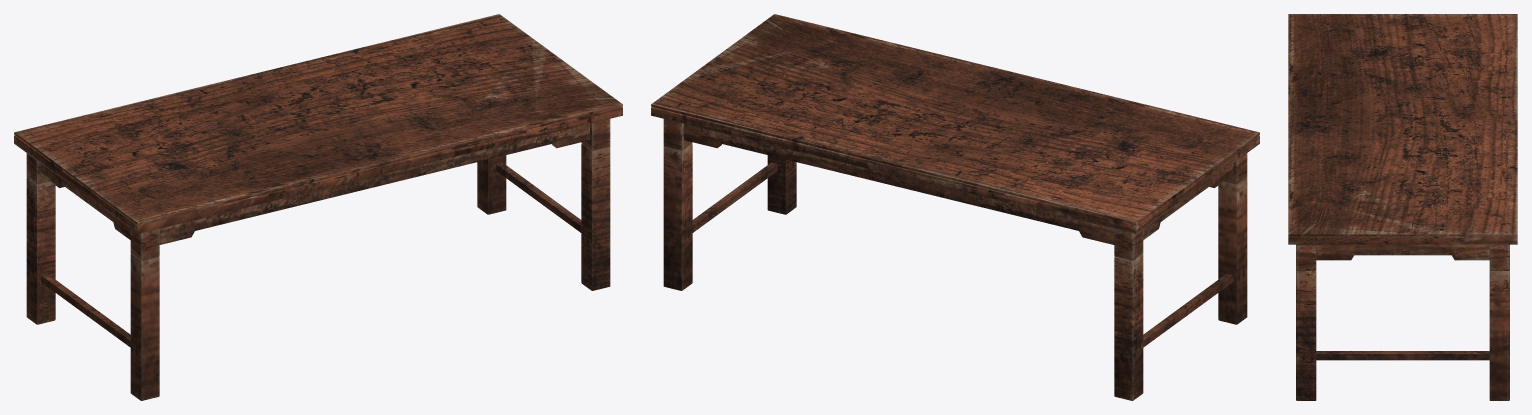
File: table.fbx
3 views of the same model, side by side, from view 1: azimuth 30°, elevation 25°; view 2: azimuth 150°, elevation 25°; view 3: azimuth 270°, elevation 25° (orthographic). The views are drawn at different scales.
Visible parts, largest first — view 1: polySurface19; view 2: polySurface19; view 3: polySurface19.
Part boxes in pixels (<box>): polySurface19: <box>14,14,622,400</box>; polySurface19: <box>651,14,1259,400</box>; polySurface19: <box>1288,14,1517,400</box>.
Size of the model in its own units: 11.28 by 4.08 by 4.97.
